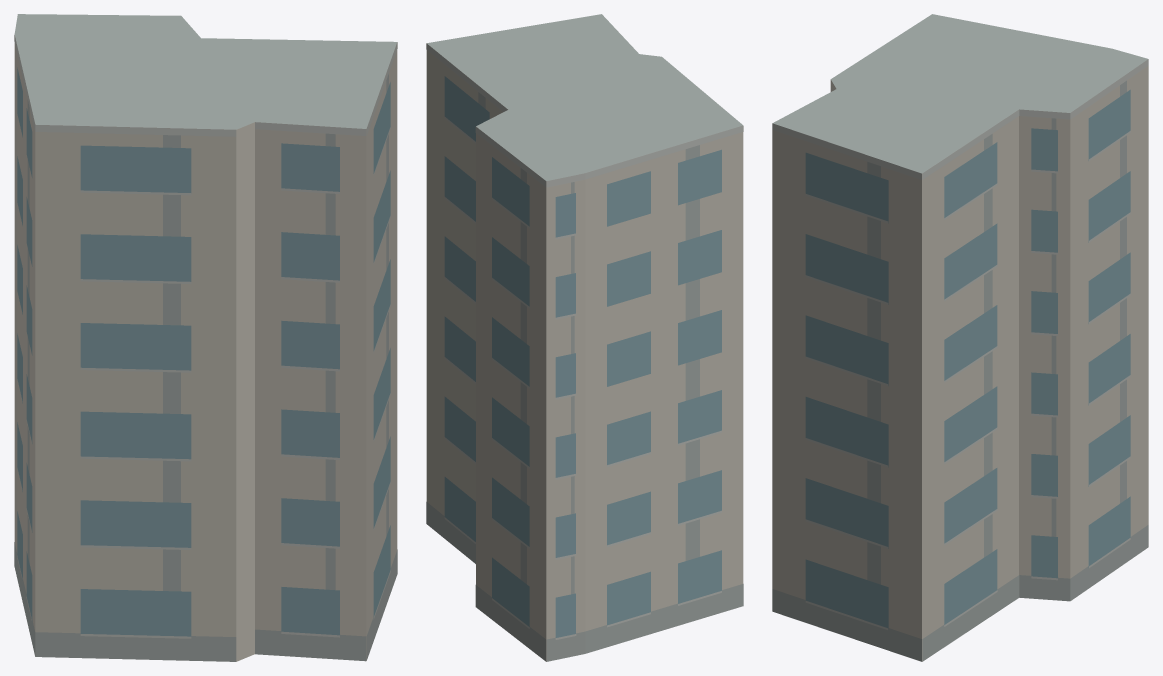
File: residential-a447ffbc-3c4f-455c-ada0-dc229712b926.glb
3 views of the same model, side by side, from view 1: azimuth 30°, elevation 25°; view 2: azimuth 150°, elevation 25°; view 3: azimuth 270°, elevation 25° (orthographic). The views are drawn at different scales.
Parts seen in each view (by area): view 1: residential-a447ffbc-3c4f-455c-ada0-dc229712b926.tmp; view 2: residential-a447ffbc-3c4f-455c-ada0-dc229712b926.tmp; view 3: residential-a447ffbc-3c4f-455c-ada0-dc229712b926.tmp.
Part boxes in pixels (x1,y1,x2,y2): residential-a447ffbc-3c4f-455c-ada0-dc229712b926.tmp: (14,14,397,661); residential-a447ffbc-3c4f-455c-ada0-dc229712b926.tmp: (426,14,743,661); residential-a447ffbc-3c4f-455c-ada0-dc229712b926.tmp: (772,14,1148,661).
Bounding box in the file's own units: 12.84 × 18.3 × 12.79.
